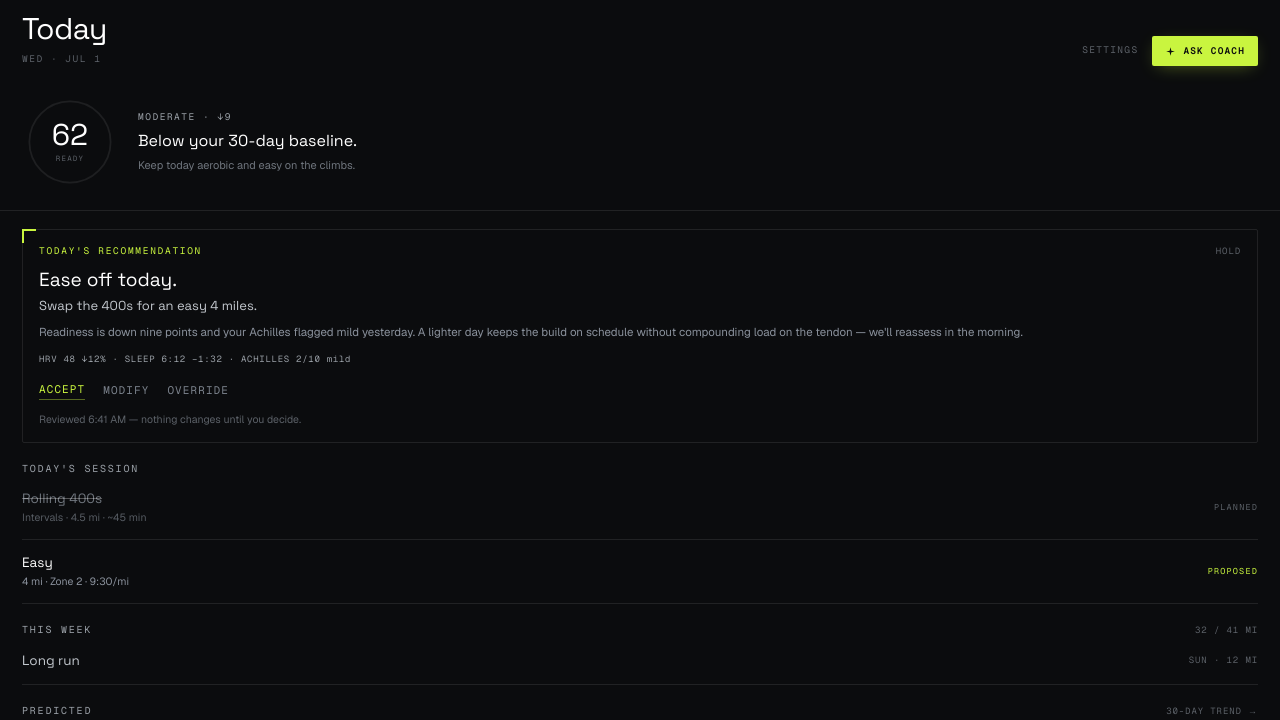
MODIFY opens the sheet and saving applies the edit
Click the button "MODIFY".
click(126, 391)  # box [103,382,149,399]
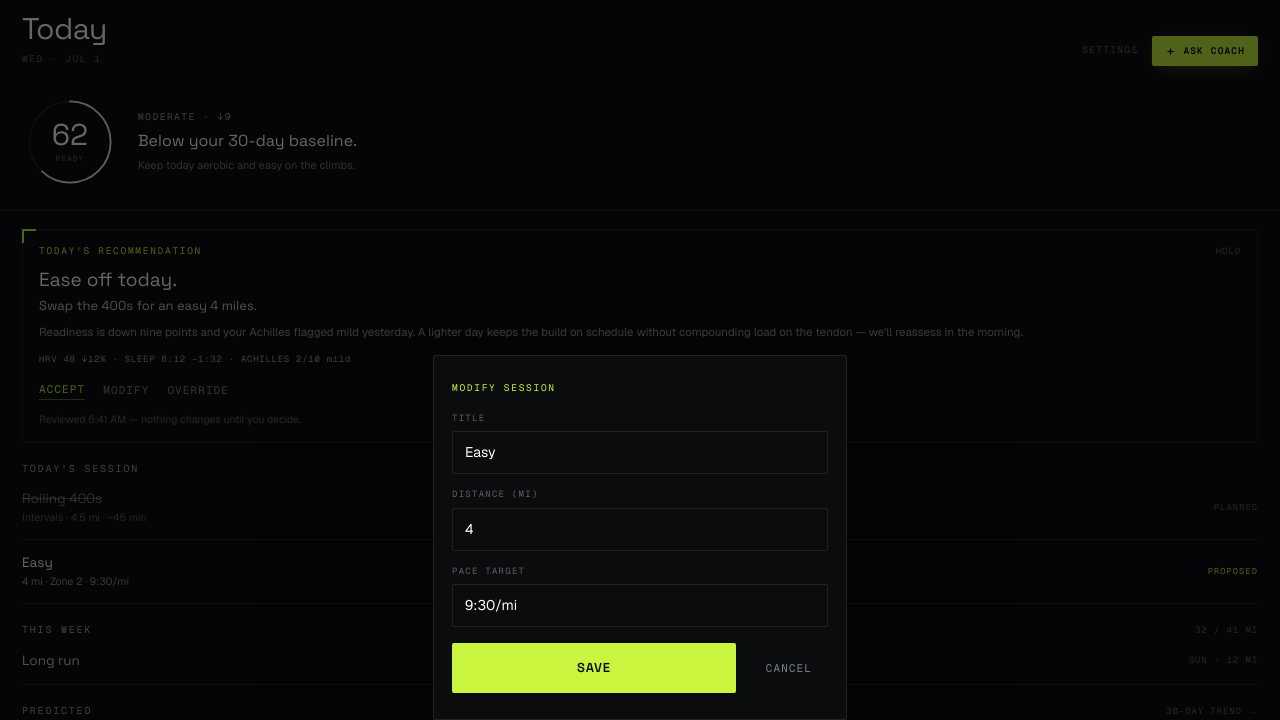
Replace the text in the field labelled "TITLE" with "Easy shakeout" at (640, 452), box [452,431,828,474]
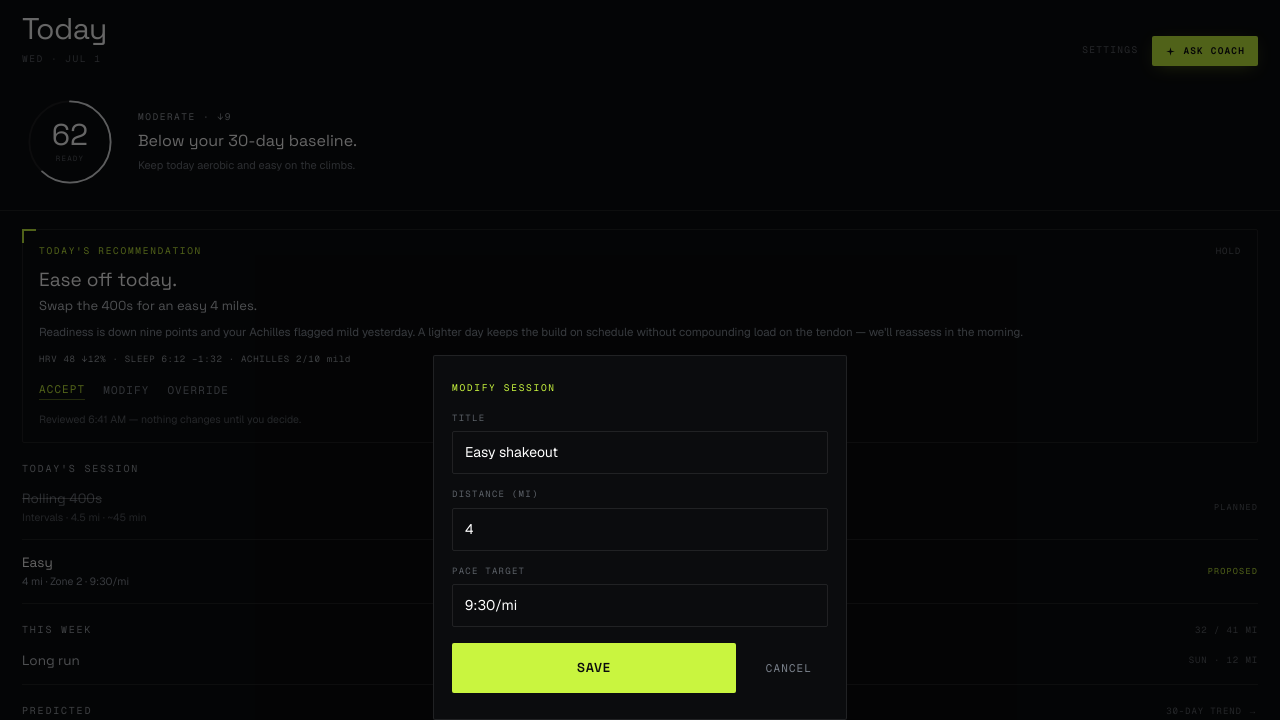
Click the button "SAVE".
click(594, 668)  # box [452,643,736,693]
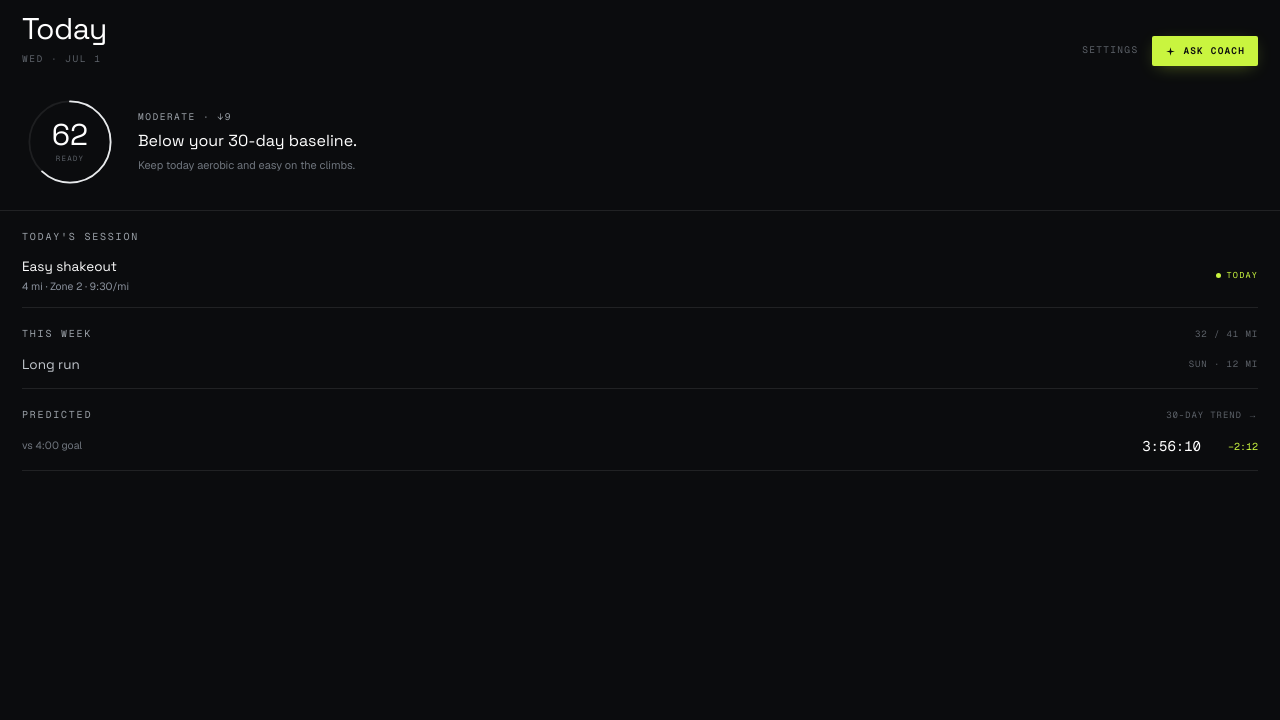
Expected: the text "Easy shakeout" is shown, [22,258,117,275]
Expected: the text "PROPOSED" is gone
